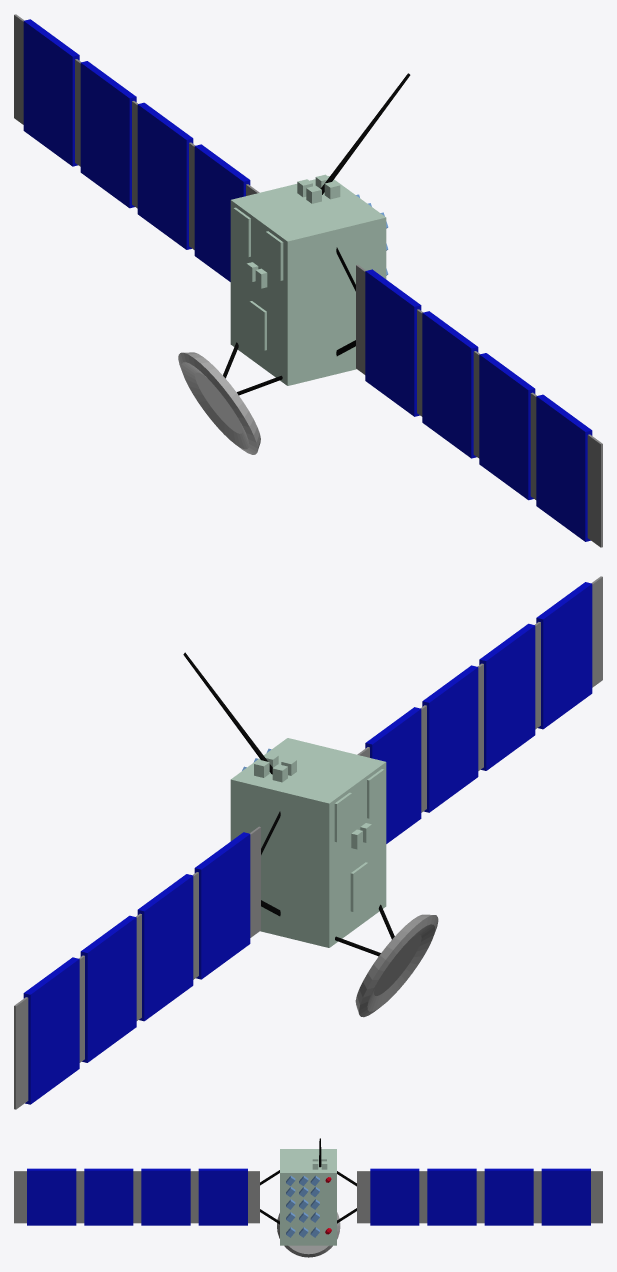
Rendered from Rosseta.fbx.
3 views of the same model, one above another, from view 1: azimuth 30°, elevation 25°; view 2: azimuth 150°, elevation 25°; view 3: azimuth 270°, elevation 25° (orthographic). The views are drawn at different scales.
Visible parts, largest first — view 1: Solar Panels, Base, SatellitePanels, RadarDish, Pipes; view 2: Solar Panels, Base, SatellitePanels, RadarDish, Pipes; view 3: Solar Panels, SatellitePanels, Base, Gridline, RadarDish, Pipes.
Part boxes in pixels (bbox=[...]): Solar Panels: bbox=[23, 19, 592, 541]; Base: bbox=[230, 174, 386, 385]; SatellitePanels: bbox=[14, 14, 602, 547]; RadarDish: bbox=[178, 352, 260, 454]; Pipes: bbox=[223, 73, 410, 395]; Solar Panels: bbox=[23, 582, 592, 1104]; Base: bbox=[230, 738, 386, 947]; SatellitePanels: bbox=[14, 576, 602, 1109]; RadarDish: bbox=[355, 914, 438, 1017]; Pipes: bbox=[183, 652, 394, 956]; Solar Panels: bbox=[27, 1168, 590, 1225]; SatellitePanels: bbox=[14, 1171, 602, 1223]; Base: bbox=[280, 1149, 336, 1245]; Gridline: bbox=[286, 1175, 319, 1237]; RadarDish: bbox=[277, 1212, 340, 1257]; Pipes: bbox=[260, 1138, 356, 1224].
Size of the model in its own units: 4.61 by 6.28 by 20.6.
